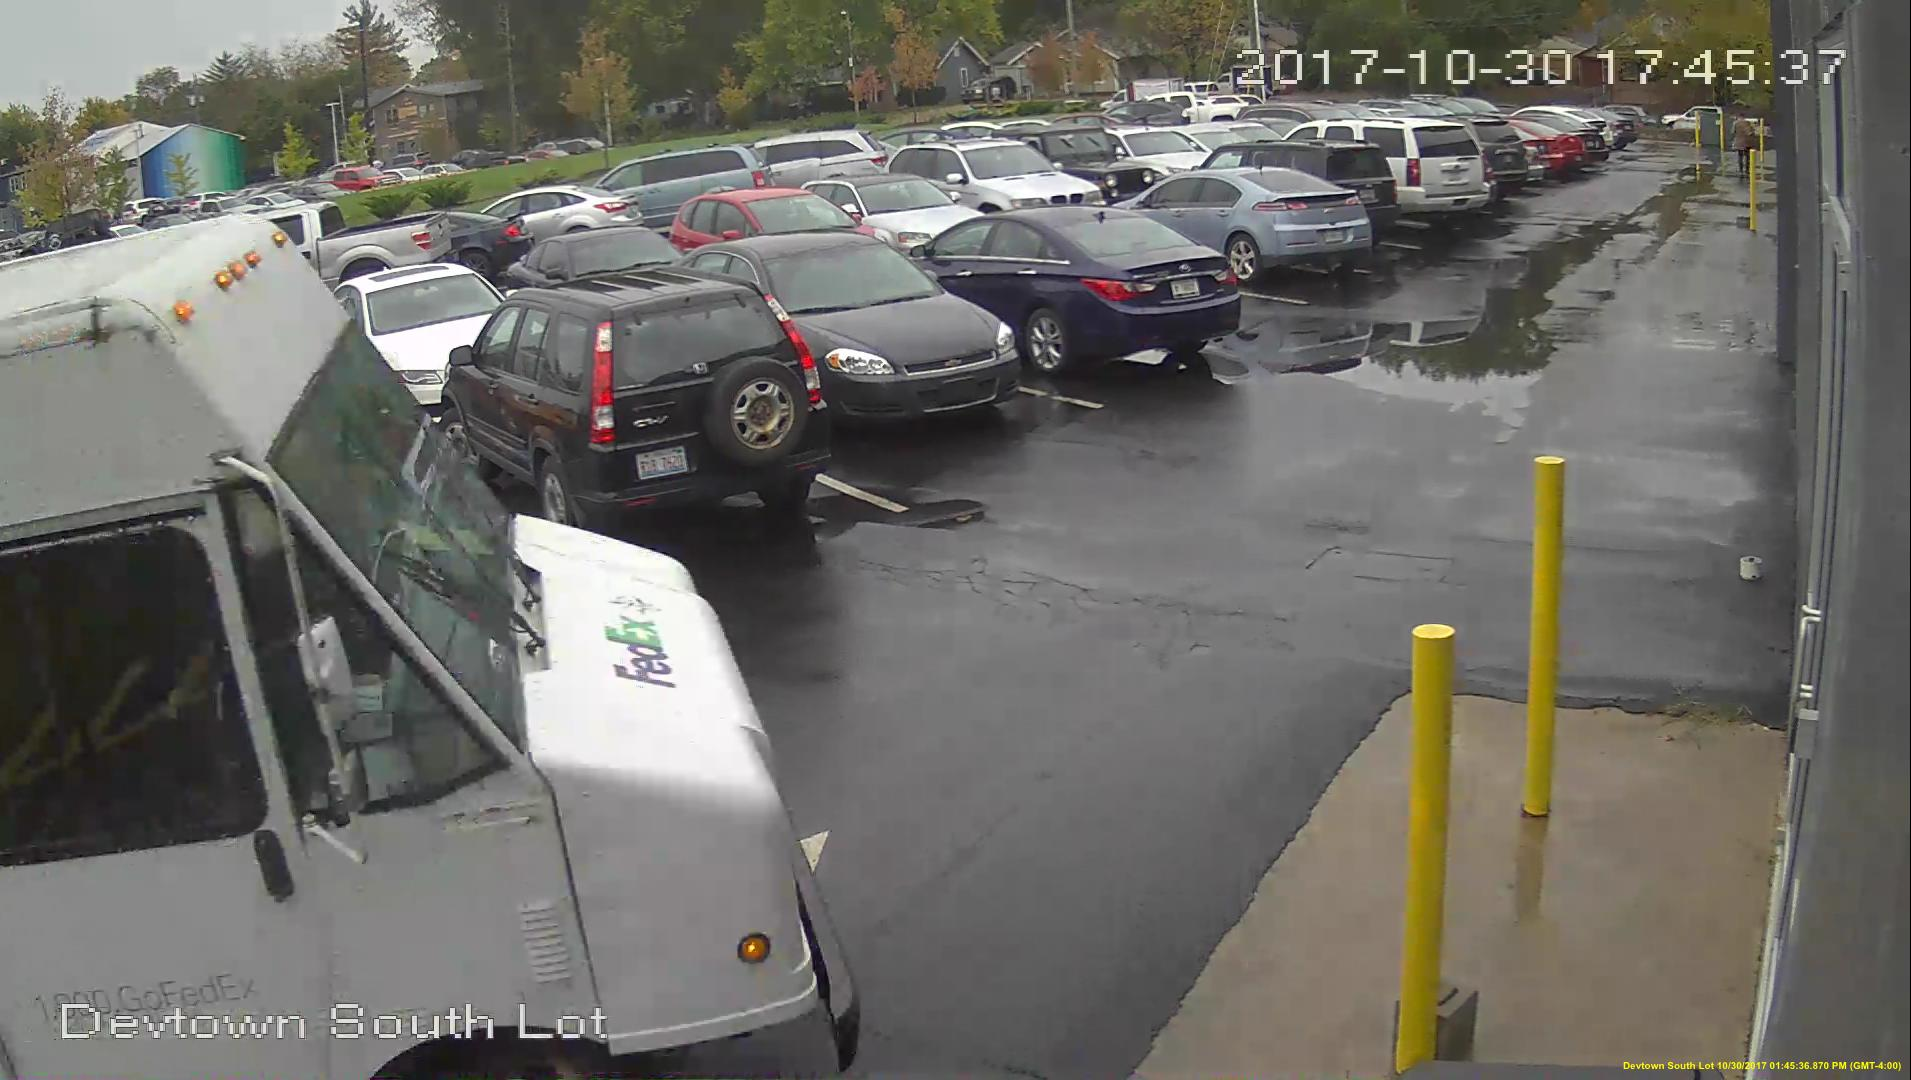fedex_truck: (18, 224, 766, 1079)
